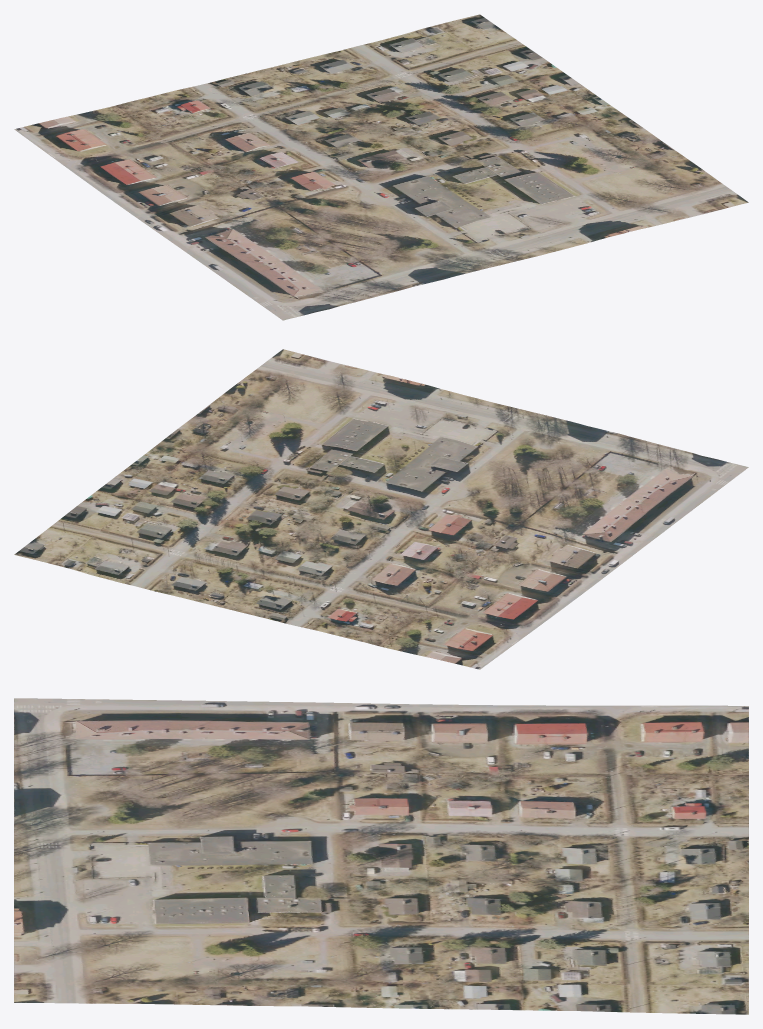
Rendered from CM_Terrain_24489230_6818975.fbx.
3 renders of one model, top to bottom at view 1: azimuth 30°, elevation 25°; view 2: azimuth 150°, elevation 25°; view 3: azimuth 270°, elevation 25°, orthographic. The views are drawn at different scales.
Visible parts, largest first — view 1: CM_Terrain_24489230_6818975_LOD0; view 2: CM_Terrain_24489230_6818975_LOD0; view 3: CM_Terrain_24489230_6818975_LOD0.
Part boxes in pixels (<box>): CM_Terrain_24489230_6818975_LOD0: <box>14,14,748,320</box>; CM_Terrain_24489230_6818975_LOD0: <box>14,349,748,669</box>; CM_Terrain_24489230_6818975_LOD0: <box>14,698,748,1014</box>.
Size of what is drawn, in the model's own units: 205 by 4.71 by 205.
